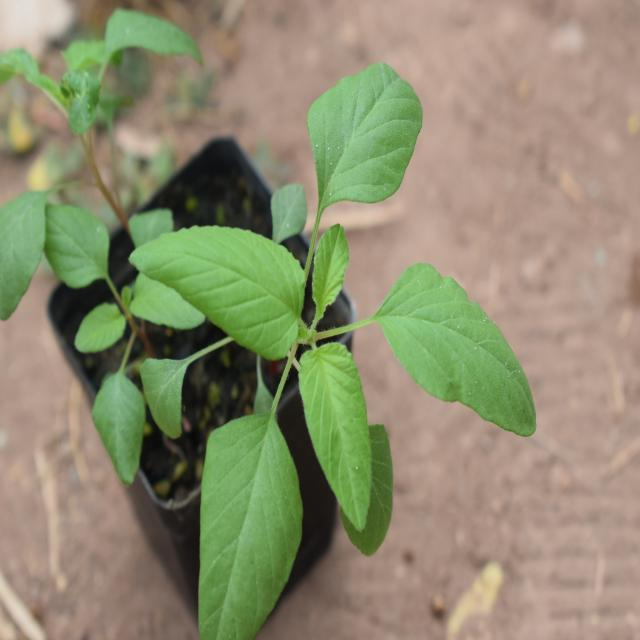pigweed: (137, 55, 523, 597)
